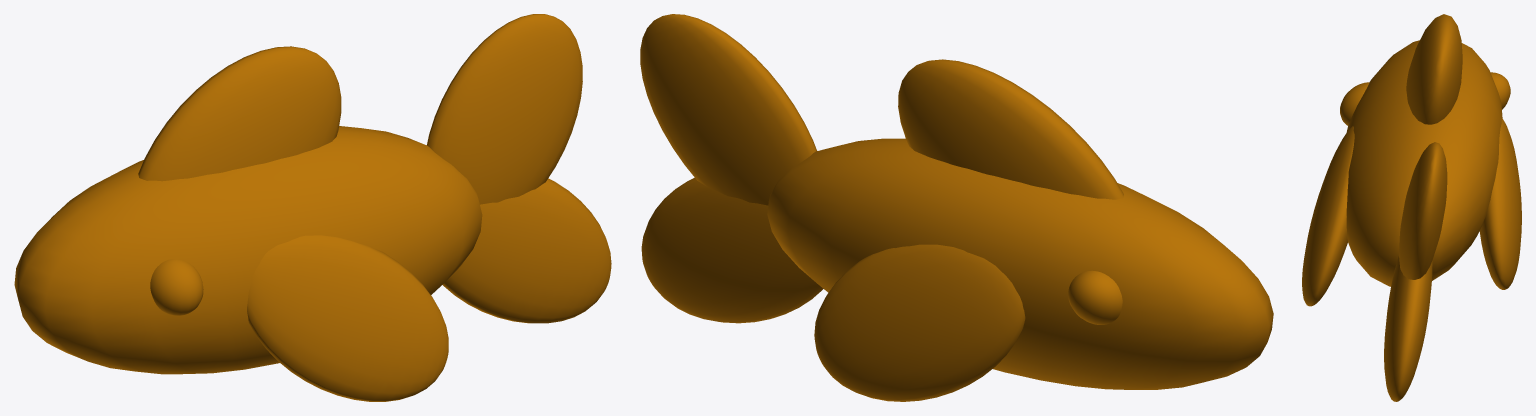
The model's file is fish.fbx.
The picture shows the model from 3 angles, left to right: view 1: azimuth 30°, elevation 25°; view 2: azimuth 150°, elevation 25°; view 3: azimuth 270°, elevation 25°; orthographic projection. The views are drawn at different scales.
Visible parts, largest first — view 1: pasted__Fish_Plush_Parts_pasted__pasted__pSphere2; view 2: pasted__Fish_Plush_Parts_pasted__pasted__pSphere2; view 3: pasted__Fish_Plush_Parts_pasted__pasted__pSphere2.
Part boxes in pixels (x1,y1,x2,y2): pasted__Fish_Plush_Parts_pasted__pasted__pSphere2: [14, 14, 611, 401]; pasted__Fish_Plush_Parts_pasted__pasted__pSphere2: [640, 14, 1273, 401]; pasted__Fish_Plush_Parts_pasted__pasted__pSphere2: [1302, 14, 1521, 401].
Bounding box in the file's own units: 1.38 × 0.7182 × 0.5431.
